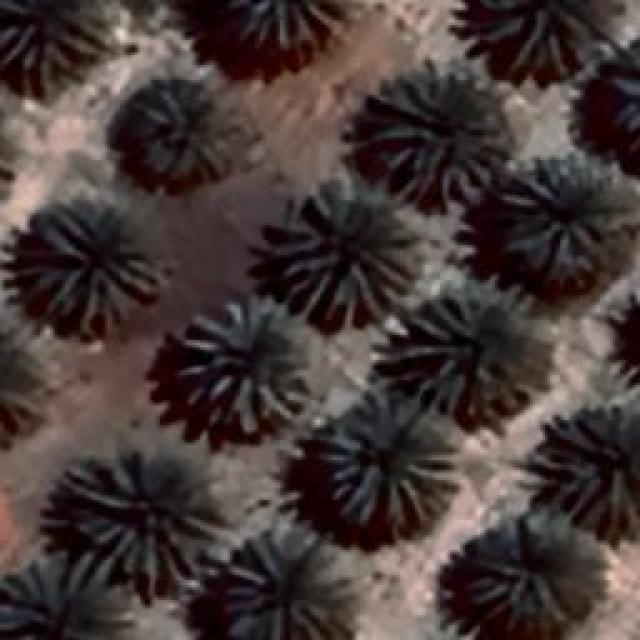PalmTree: (268, 175, 420, 328), (54, 446, 212, 586), (320, 382, 455, 536), (362, 65, 508, 205), (177, 295, 315, 430), (19, 208, 162, 332), (498, 152, 628, 270), (534, 402, 638, 540), (458, 522, 584, 635), (411, 295, 534, 410), (128, 75, 248, 180), (218, 528, 332, 638), (0, 547, 135, 635), (0, 0, 102, 85), (477, 0, 592, 72), (0, 327, 55, 456), (590, 35, 638, 162), (228, 0, 348, 48), (0, 99, 15, 208)
